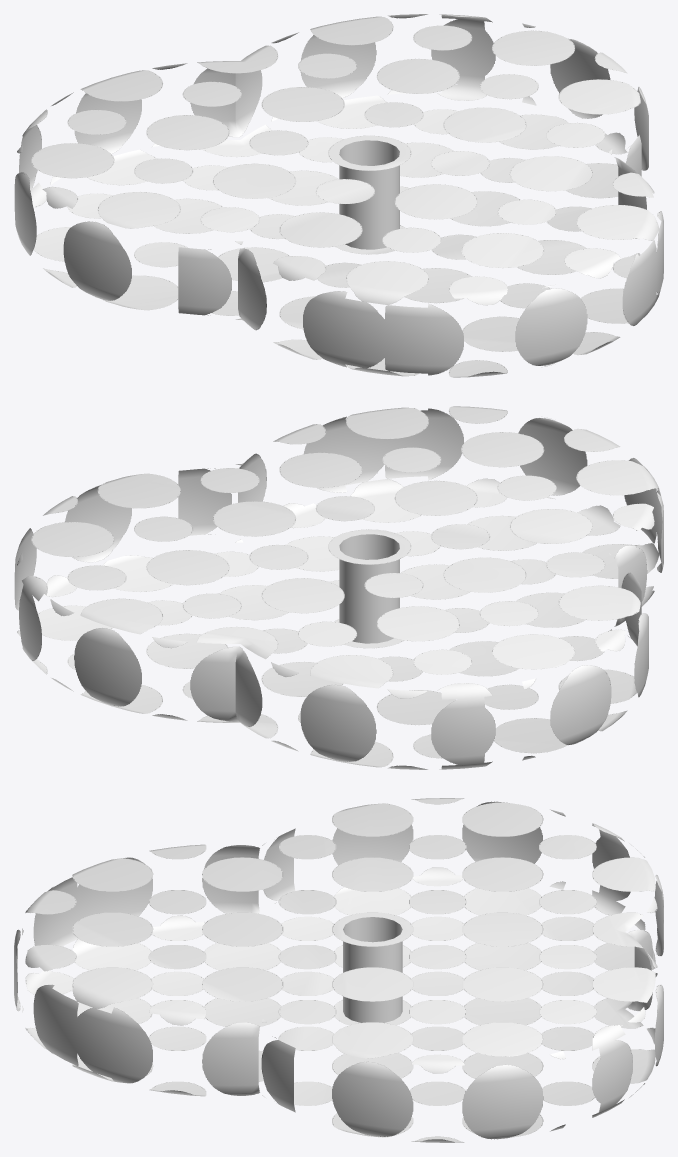
3 views of the same model, one above another, from view 1: azimuth 30°, elevation 25°; view 2: azimuth 150°, elevation 25°; view 3: azimuth 270°, elevation 25° (orthographic). The views are drawn at different scales.
Visible parts, largest first — view 1: CloverOriginal.010; view 2: CloverOriginal.010; view 3: CloverOriginal.010.
Part boxes in pixels (x1,y1,x2,y2): CloverOriginal.010: (14,14,663,377); CloverOriginal.010: (14,406,663,769); CloverOriginal.010: (14,798,663,1142).
Bounding box in the file's own units: 510 × 70.83 × 510.
